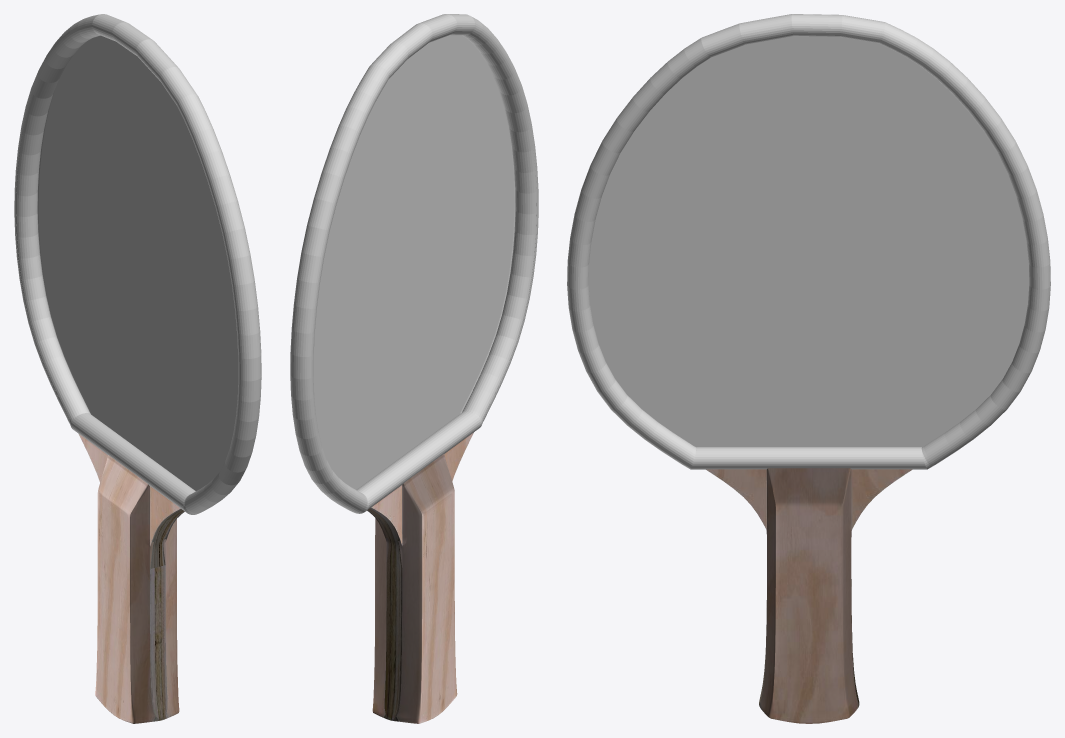
The model's file is paddle_vik_a_frammenti_3.glb.
3 renders of one model, left to right at view 1: azimuth 30°, elevation 25°; view 2: azimuth 150°, elevation 25°; view 3: azimuth 270°, elevation 25°, orthographic. The views are drawn at different scales.
Parts seen in each view (by area): view 1: face_2.002, bordi.004, manico.002; view 2: face_2.002, bordi.004, manico.002; view 3: face_1.002, bordi.004, manico.002.
Boxes of the visible parts, x1,y1,x2,y2 form: face_2.002: (37, 35, 238, 490); bordi.004: (14, 14, 261, 514); manico.002: (78, 434, 184, 723); face_2.002: (313, 35, 515, 489); bordi.004: (290, 14, 538, 513); manico.002: (367, 432, 473, 723); face_1.002: (588, 36, 1029, 446); bordi.004: (567, 14, 1050, 469); manico.002: (705, 468, 912, 723).
Size of the model in its own units: 2.11 by 29.15 by 18.33.
Materials: 1 (1 with a texture image).
